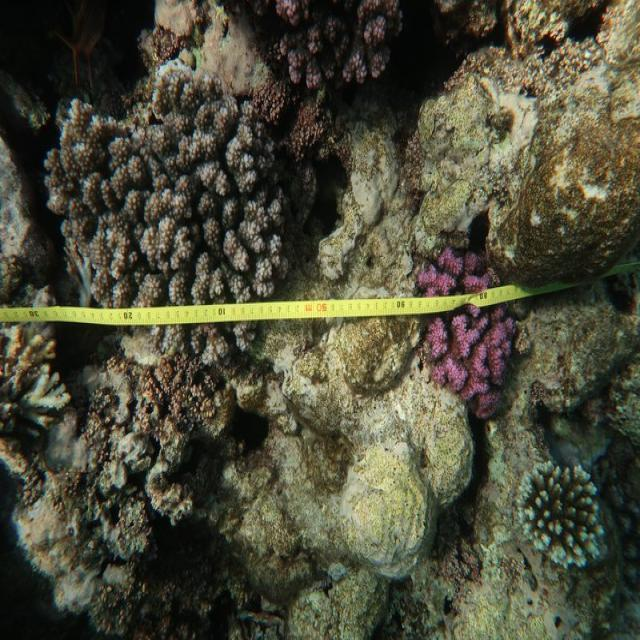Bleached Coral: (517, 461, 612, 574)
Dead Coral: (41, 66, 287, 306)
Healthy Coral: (416, 242, 527, 419)
